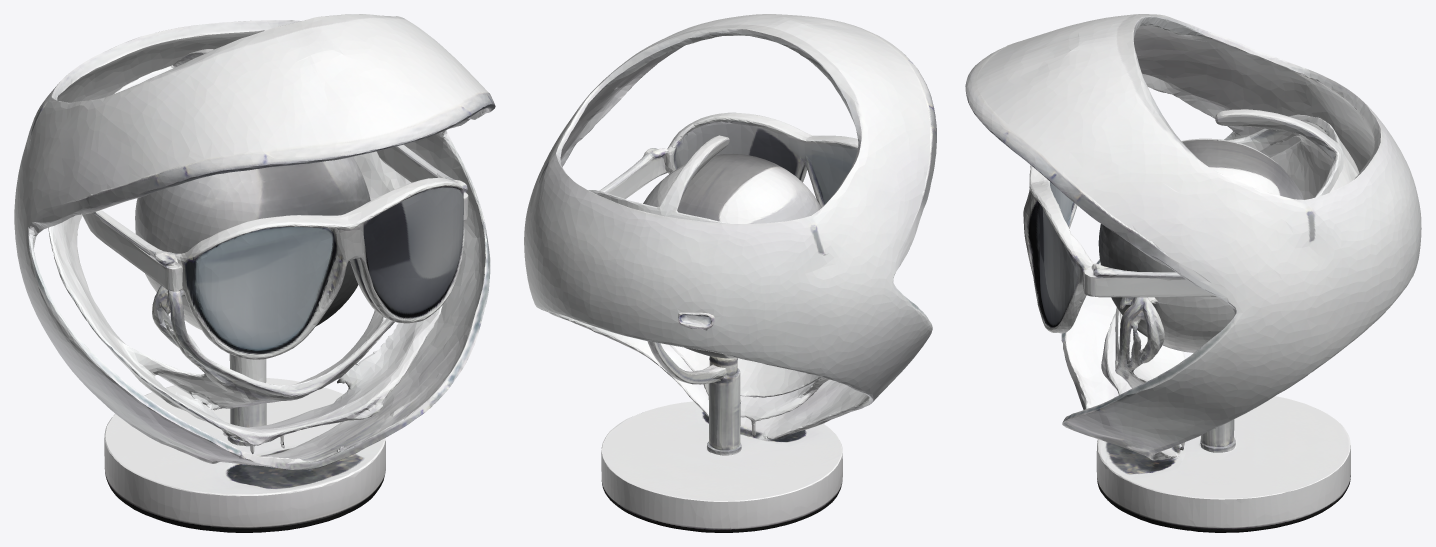
File: 3D_Womp_Prompt 02.glb
The picture shows the model from 3 angles, left to right: view 1: azimuth 30°, elevation 25°; view 2: azimuth 150°, elevation 25°; view 3: azimuth 270°, elevation 25°; orthographic projection. The views are drawn at different scales.
Size of the model in its own units: 92.65 by 100 by 93.1.
1 material, 1 textured.
